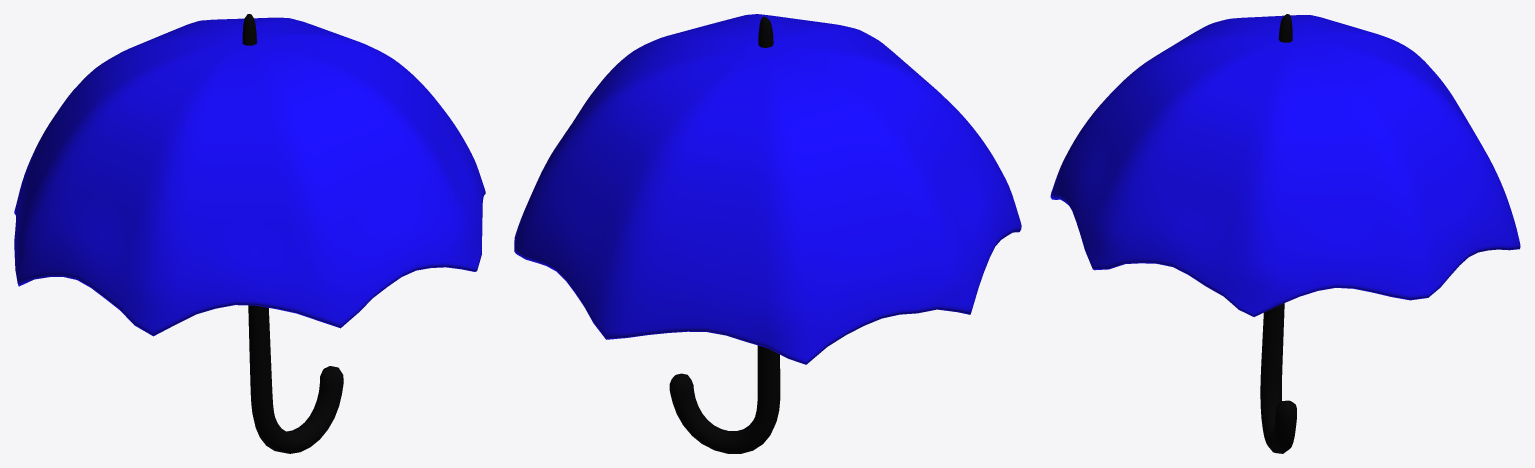
The model's file is umbrella.FBX.
3 views of the same model, side by side, from view 1: azimuth 30°, elevation 25°; view 2: azimuth 150°, elevation 25°; view 3: azimuth 270°, elevation 25° (orthographic). The views are drawn at different scales.
Visible parts, largest first — view 1: Group1666, Group001; view 2: Group1666, Group001; view 3: Group1666, Group001.
Boxes of the visible parts, x1,y1,x2,y2 form: Group1666: (14, 17, 485, 336); Group001: (242, 14, 343, 453); Group1666: (514, 14, 1021, 364); Group001: (669, 16, 780, 453); Group1666: (1050, 15, 1520, 316); Group001: (1260, 14, 1296, 453).
Bounding box in the file's own units: 21.3 × 20.94 × 21.45.
